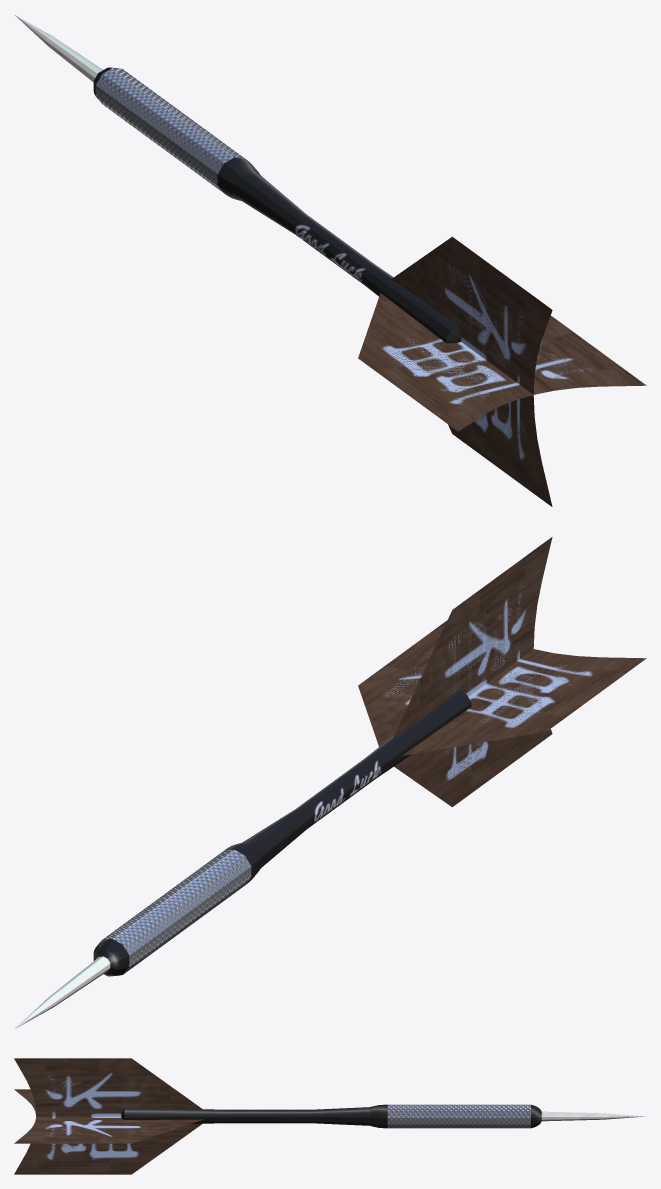
The model's file is Dart2.fbx.
The picture shows the model from 3 angles, top to bottom: view 1: azimuth 30°, elevation 25°; view 2: azimuth 150°, elevation 25°; view 3: azimuth 270°, elevation 25°; orthographic projection. The views are drawn at different scales.
Visible parts, largest first — view 1: Dart2; view 2: Dart2; view 3: Dart2.
Part boxes in pixels (left/top/right/bottom): Dart2: left=15, top=15, right=646, bottom=506; Dart2: left=15, top=537, right=646, bottom=1028; Dart2: left=14, top=1058, right=646, bottom=1174.
Bounding box in the file's own units: 2.67 × 2.67 × 13.2.
